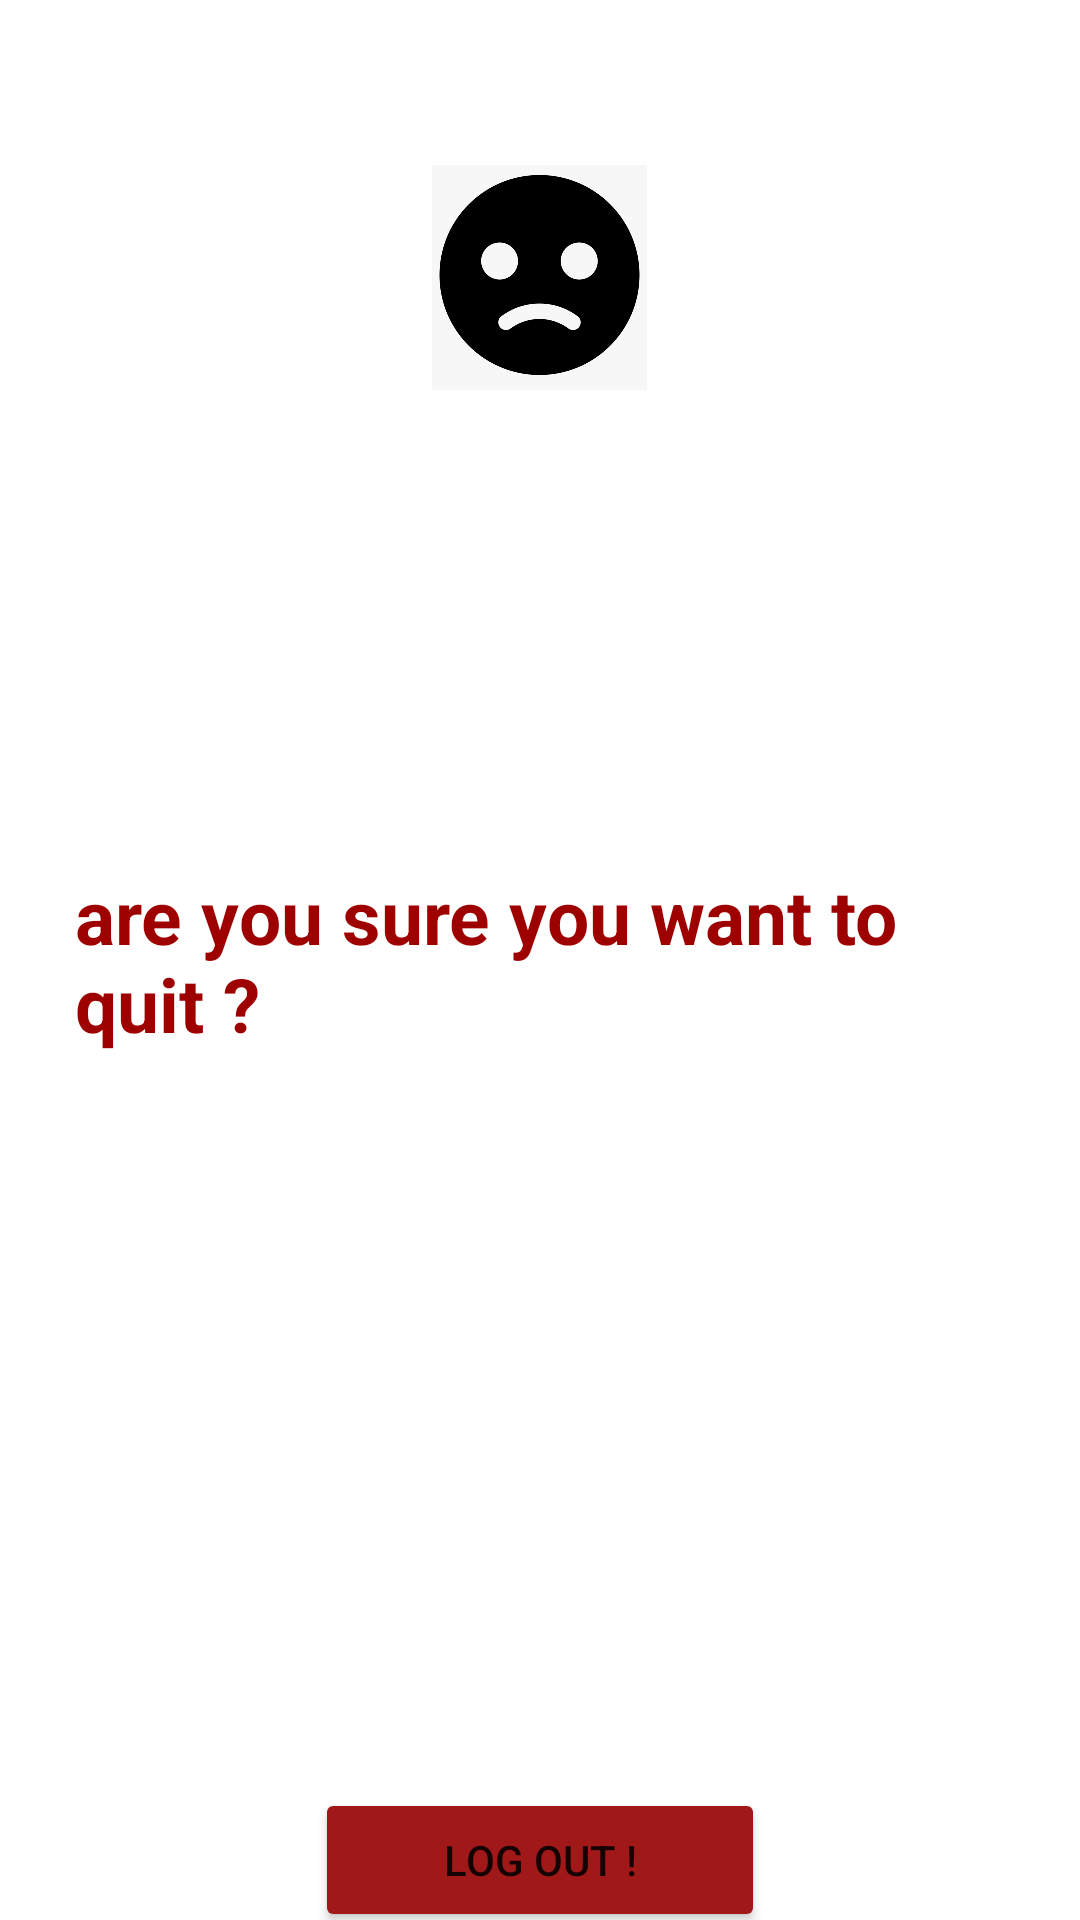

Icons on this 1080x1920 Android screen, each with its box as {"x1": x1, "y1": y1, "x2": x2, "y2": y2}:
sad: {"x1": 439, "y1": 175, "x2": 640, "y2": 375}
